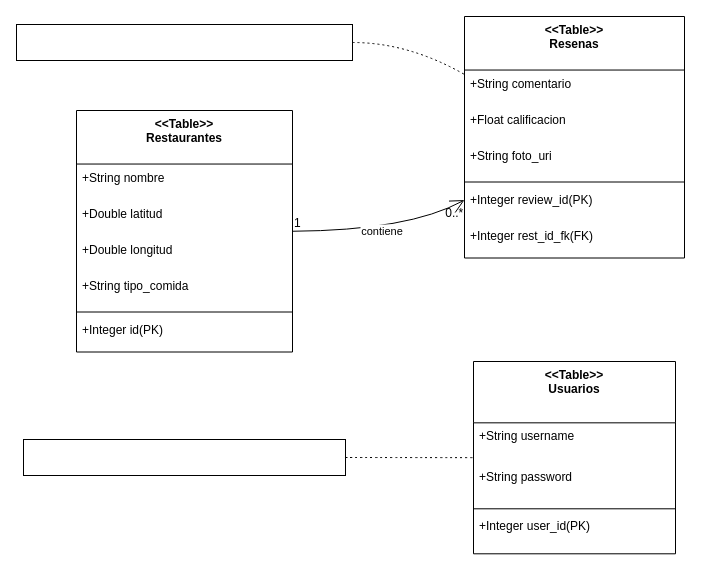
Some shapes in this 701 by 570 pixel diagram are drawn without their labels. The centre of each missing label's shape, as x and y in pixels:
"FK: rest_id_fk conecta con Restaurantes(id)" belongs at point (184, 42).
"Tabla independiente para Login y Registro" belongs at point (184, 457).
